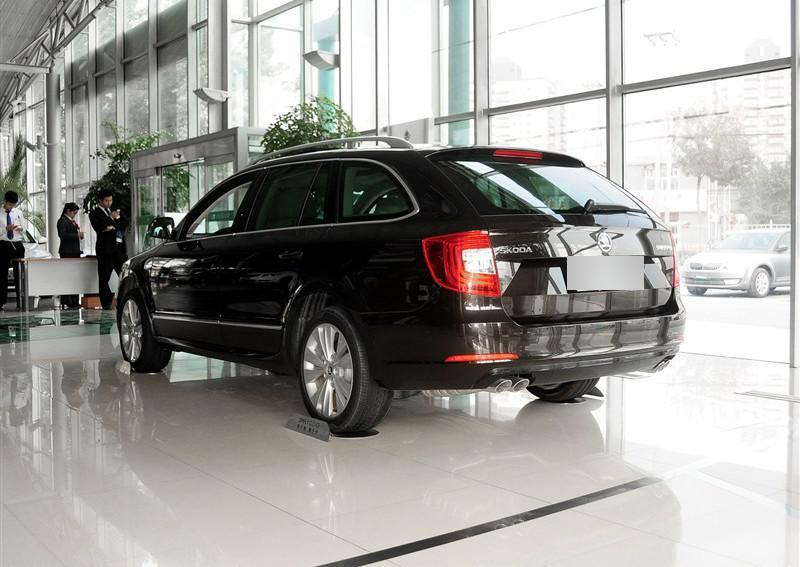Wagon: (114, 134, 687, 436)
